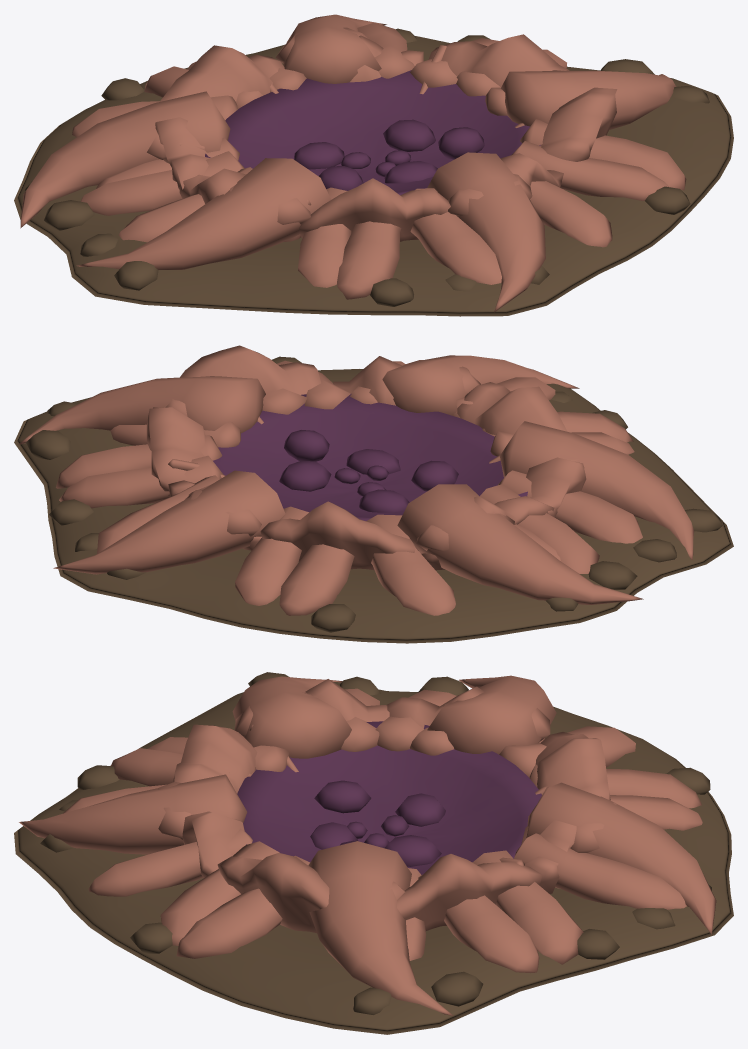
File: biter-spawner-corpse.glb
3 renders of one model, top to bottom at view 1: azimuth 30°, elevation 25°; view 2: azimuth 150°, elevation 25°; view 3: azimuth 270°, elevation 25°, orthographic. The views are drawn at different scales.
Visible parts, largest first — view 1: body; view 2: body; view 3: body.
Boxes of the visible parts, x1,y1,x2,y2 form: body: (14, 14, 733, 316); body: (14, 345, 733, 643); body: (14, 672, 733, 1034).
Bounding box in the file's own units: 6.42 × 0.7355 × 5.52.
